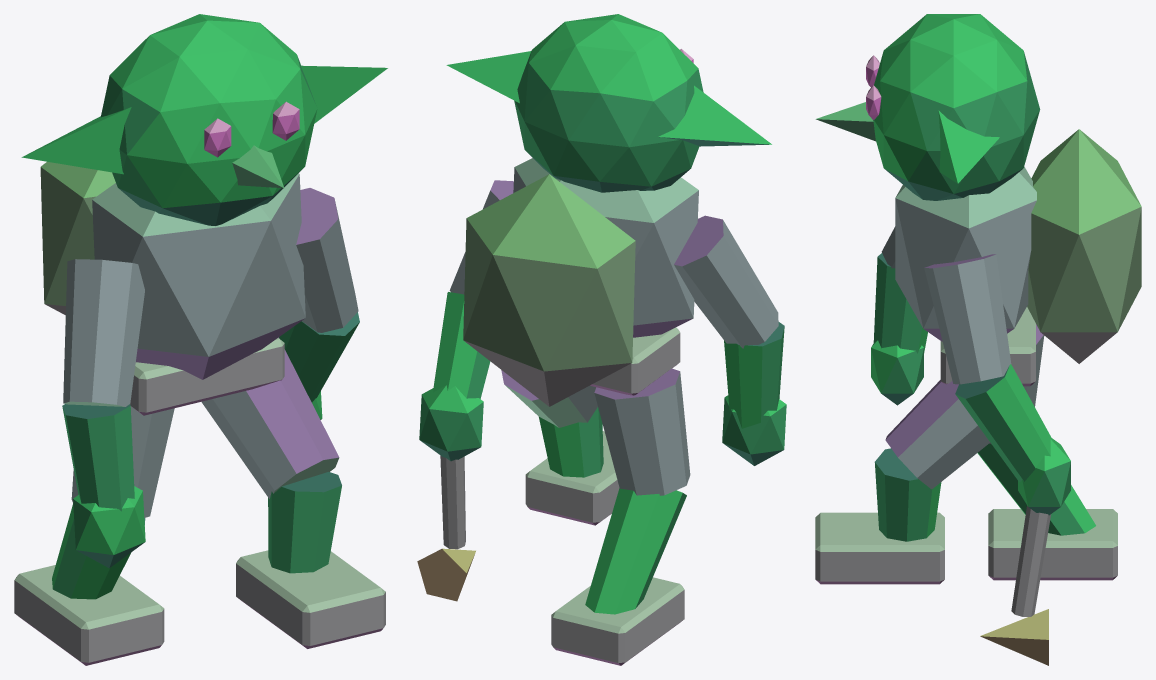
File: creature_goblin_scavenger_passing_b_v01.glb
3 views of the same model, side by side, from view 1: azimuth 30°, elevation 25°; view 2: azimuth 150°, elevation 25°; view 3: azimuth 270°, elevation 25° (orthographic). The views are drawn at different scales.
Parts seen in each view (by area): view 1: GEO_creature_goblin_scavenger_passing_b_v01; view 2: GEO_creature_goblin_scavenger_passing_b_v01; view 3: GEO_creature_goblin_scavenger_passing_b_v01.
Part boxes in pixels (<box>): GEO_creature_goblin_scavenger_passing_b_v01: <box>14,14,387,665</box>; GEO_creature_goblin_scavenger_passing_b_v01: <box>417,14,786,665</box>; GEO_creature_goblin_scavenger_passing_b_v01: <box>815,14,1141,665</box>.
Size of the model in its own units: 0.88 by 1.48 by 0.7546.
